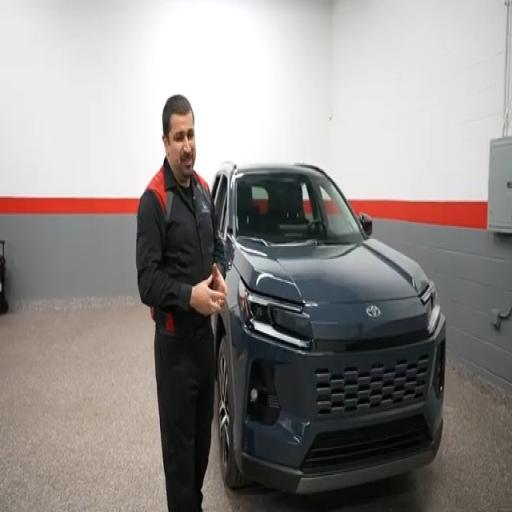bumper: (232, 316, 445, 493), (241, 423, 442, 493)
emblem: (366, 305, 380, 318)
fog_light: (250, 389, 258, 402)
grille: (302, 416, 431, 473), (316, 356, 428, 415)
headlight: (239, 282, 312, 348), (420, 281, 440, 334)
hood: (236, 239, 427, 304)
side_mirror: (360, 214, 372, 236)
wheel: (216, 338, 246, 489)
window: (214, 174, 227, 234)
windshield: (236, 171, 363, 244)
